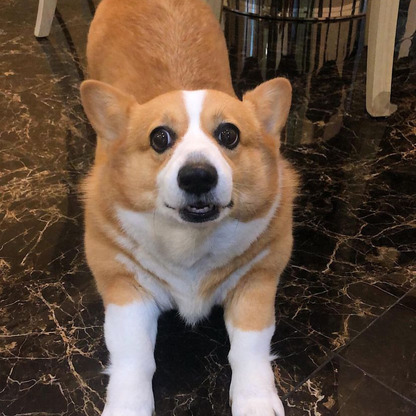Corgi: (58, 37, 319, 372)
